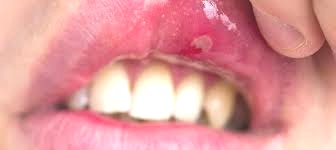Ulcer: (191, 35, 214, 51)
